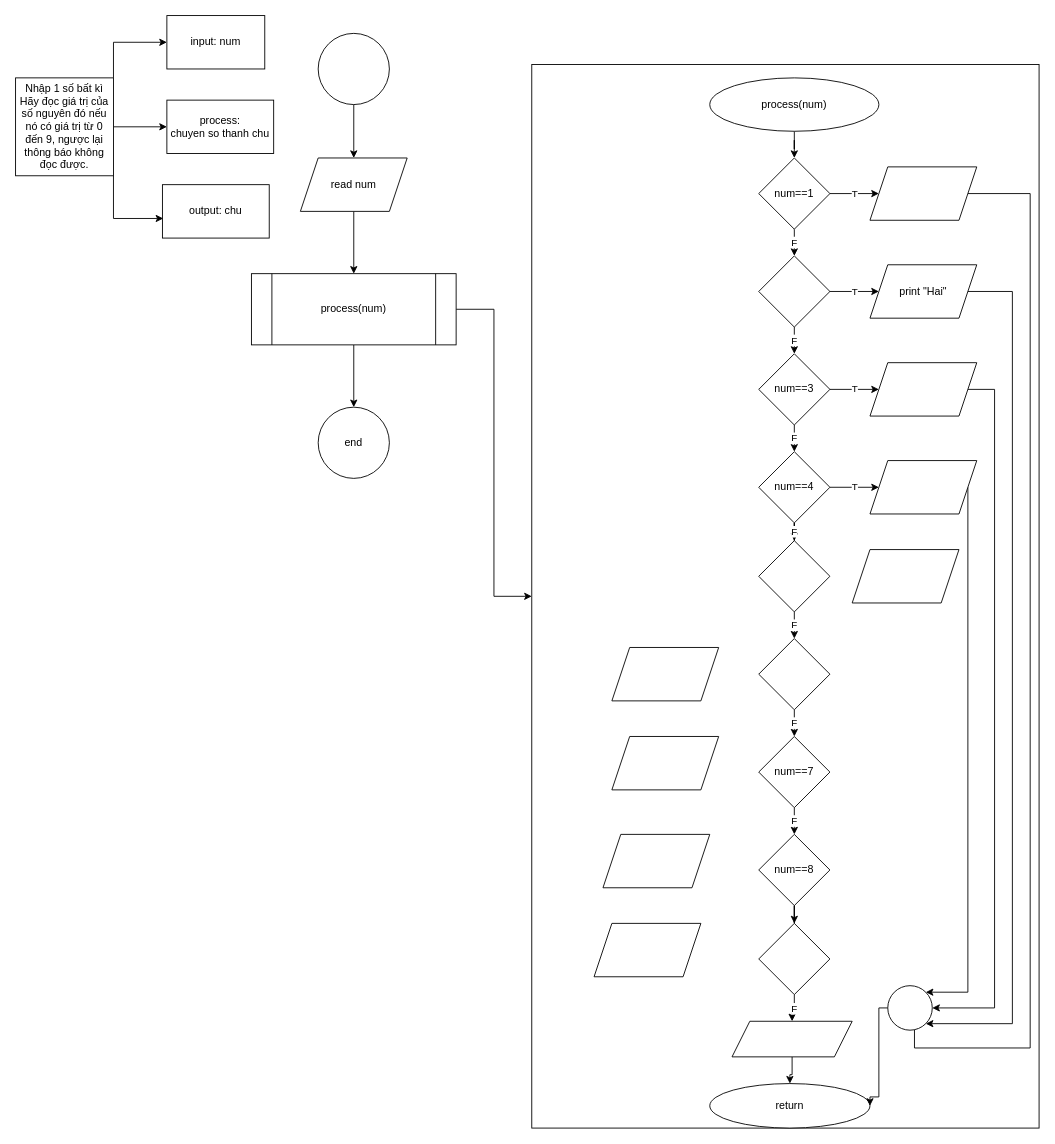
The diagram is 1055 pixels wide and 1144 high, and some of its shapes have lost their labels. The centre of each missing label's shape, as x and y in pixels:
Begin: (x=353, y=68)
num==2: (x=794, y=291)
num==5: (x=794, y=576)
num==6: (x=794, y=674)
num==9: (x=794, y=958)
print "Ba": (x=923, y=389)
print "Bốn: (x=923, y=487)
print "Một": (x=923, y=193)
